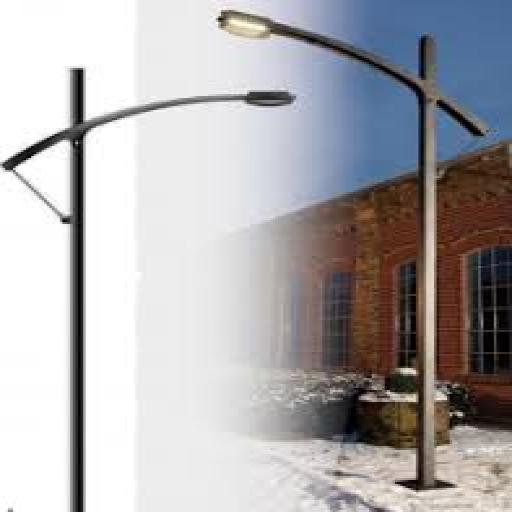Light-pole: (241, 6, 490, 504), (12, 50, 288, 485)
